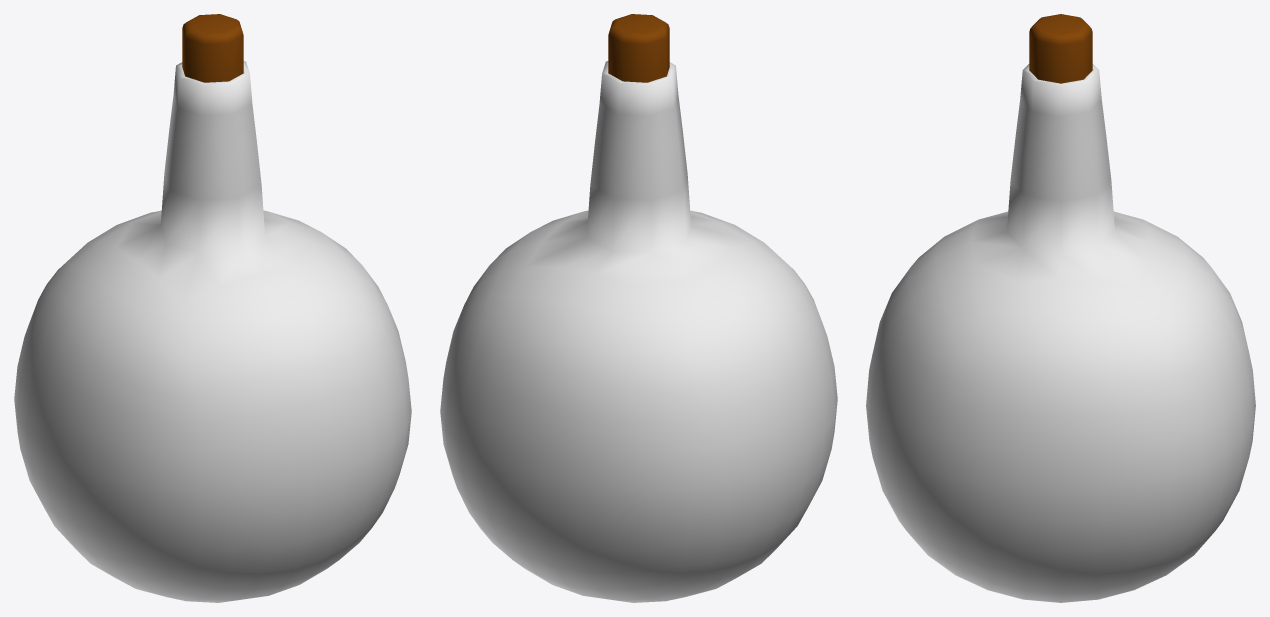
Rendered from Potion.fbx.
3 views of the same model, side by side, from view 1: azimuth 30°, elevation 25°; view 2: azimuth 150°, elevation 25°; view 3: azimuth 270°, elevation 25° (orthographic).
Parts seen in each view (by area): view 1: Pocion; view 2: Pocion; view 3: Pocion.
Part boxes in pixels (x1,y1,x2,y2): Pocion: (14,14,411,602); Pocion: (440,14,837,602); Pocion: (866,14,1255,602).
Size of the model in its own units: 177 by 279 by 177.
